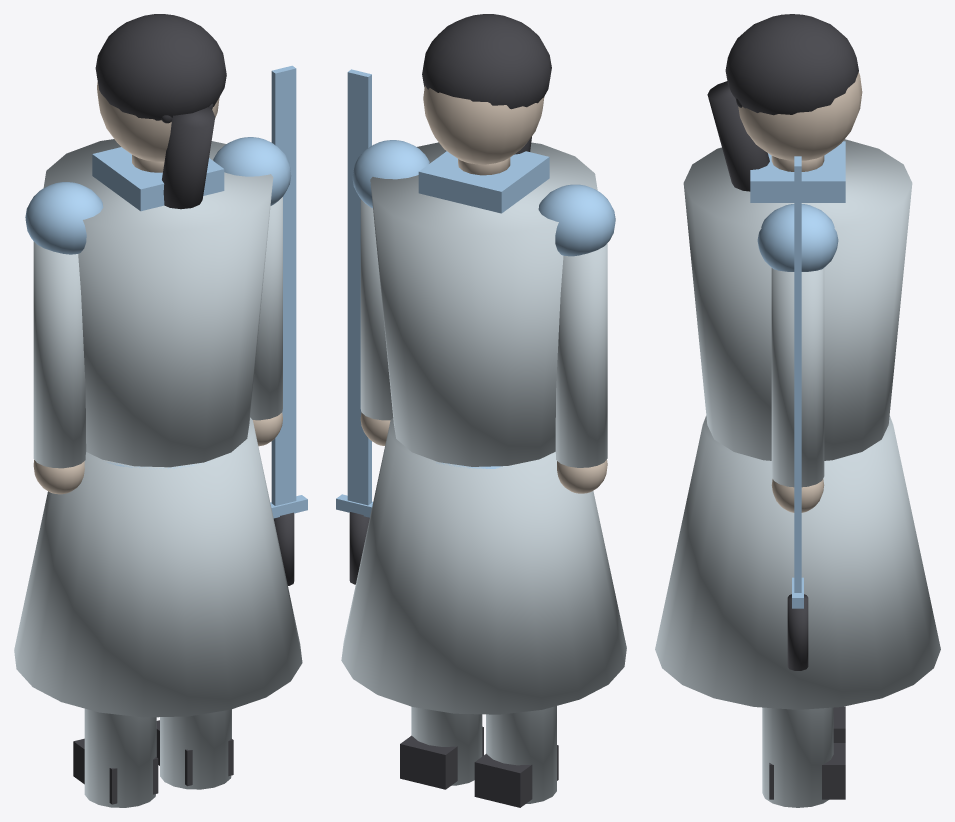
The model's file is murong-xue.glb.
3 renders of one model, left to right at view 1: azimuth 30°, elevation 25°; view 2: azimuth 150°, elevation 25°; view 3: azimuth 270°, elevation 25°, orthographic.
Parts seen in each view (by area): view 1: murong-xue_robe, murong-xue_torso, murong-xue_hair, murong-xue_arm-0.235, murong-xue_blade, murong-xue_leg-0.09, murong-xue_arm0.235, murong-xue_leg0.09, murong-xue_shoulder-0.22, murong-xue_pigtail, murong-xue_collar, murong-xue_shoulder0.22 (+6 smaller); view 2: murong-xue_robe, murong-xue_torso, murong-xue_arm-0.235, murong-xue_hair, murong-xue_blade, murong-xue_head, murong-xue_collar, murong-xue_arm0.235, murong-xue_leg-0.09, murong-xue_shoulder-0.22, murong-xue_leg0.09, murong-xue_shoulder0.22 (+6 smaller); view 3: murong-xue_robe, murong-xue_torso, murong-xue_hair, murong-xue_arm0.235, murong-xue_leg0.09, murong-xue_head, murong-xue_shoulder0.22, murong-xue_collar, murong-xue_blade, murong-xue_pigtail, murong-xue_grip, murong-xue_boot0.09 (+2 smaller).
Boxes of the visible parts, <box> form: murong-xue_robe: <box>14,417,302,717</box>; murong-xue_torso: <box>43,139,273,467</box>; murong-xue_hair: <box>95,14,226,120</box>; murong-xue_arm-0.235: <box>33,241,86,468</box>; murong-xue_blade: <box>271,65,296,505</box>; murong-xue_leg-0.09: <box>84,708,156,807</box>; murong-xue_arm0.235: <box>250,197,282,420</box>; murong-xue_leg0.09: <box>160,709,231,789</box>; murong-xue_shoulder-0.22: <box>25,182,103,254</box>; murong-xue_pigtail: <box>162,107,215,209</box>; murong-xue_collar: <box>92,147,224,211</box>; murong-xue_shoulder0.22: <box>213,137,291,205</box>; murong-xue_robe: <box>341,418,626,714</box>; murong-xue_torso: <box>370,142,597,466</box>; murong-xue_arm-0.235: <box>555,243,607,467</box>; murong-xue_hair: <box>422,14,551,109</box>; murong-xue_blade: <box>347,69,371,505</box>; murong-xue_head: <box>423,86,544,164</box>; murong-xue_collar: <box>418,151,549,213</box>; murong-xue_arm0.235: <box>360,199,393,420</box>; murong-xue_leg-0.09: <box>486,706,556,803</box>; murong-xue_shoulder-0.22: <box>538,184,615,256</box>; murong-xue_leg0.09: <box>411,706,482,785</box>; murong-xue_shoulder0.22: <box>352,140,429,208</box>; murong-xue_robe: <box>655,416,940,709</box>; murong-xue_torso: <box>683,139,912,460</box>; murong-xue_hair: <box>725,14,858,115</box>; murong-xue_arm0.235: <box>771,268,824,487</box>; murong-xue_leg0.09: <box>762,707,833,807</box>; murong-xue_head: <box>738,72,862,160</box>; murong-xue_shoulder0.22: <box>757,204,838,271</box>; murong-xue_collar: <box>750,141,845,202</box>; murong-xue_blade: <box>794,156,801,592</box>; murong-xue_pigtail: <box>707,81,769,191</box>; murong-xue_grip: <box>787,594,808,670</box>; murong-xue_boot0.09: <box>769,743,845,799</box>.
Size of the model in its own units: 0.655 by 1.74 by 0.6.
